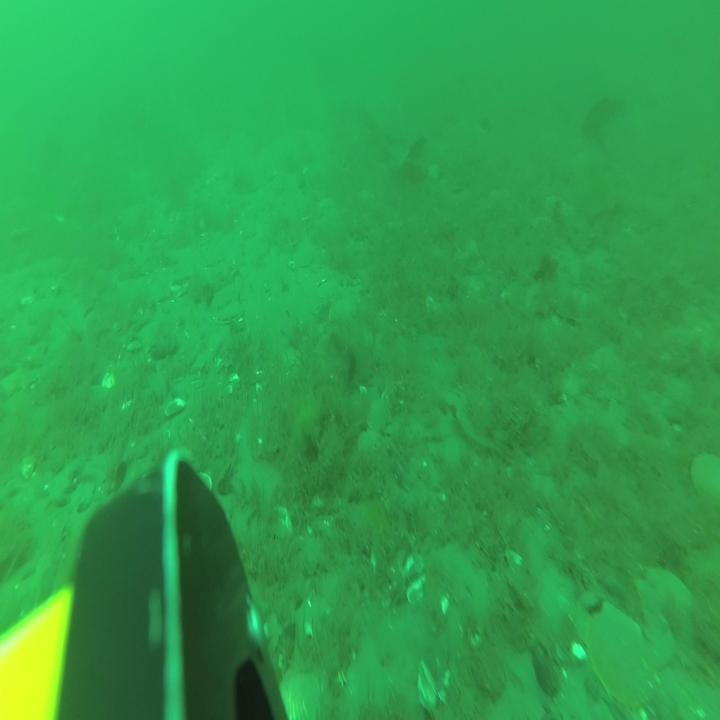scallop: (588, 600, 643, 704), (276, 658, 331, 720), (691, 449, 720, 502), (326, 294, 359, 322), (367, 398, 392, 432), (216, 303, 244, 325)
